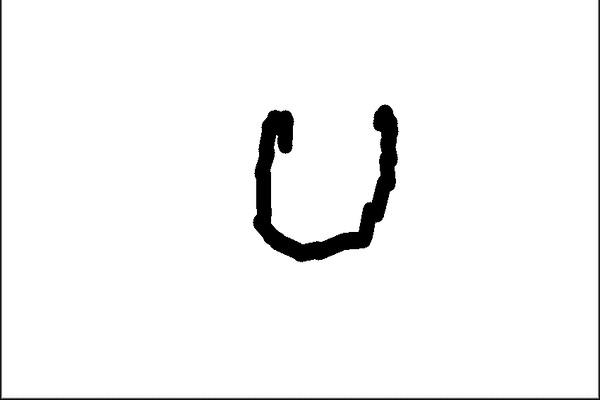U: (240, 93, 406, 273)
